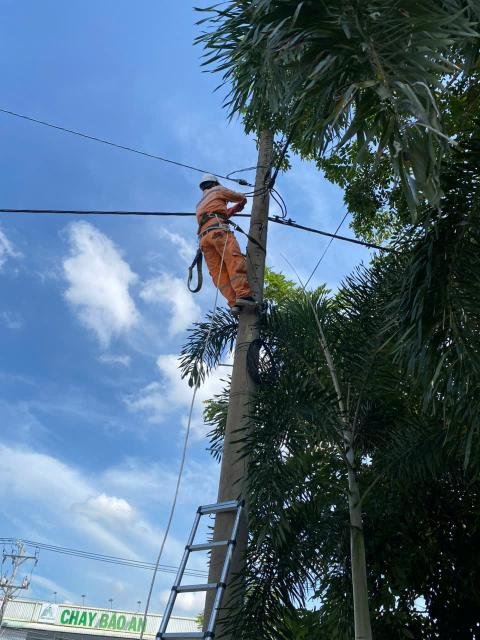harness: (187, 210, 236, 228)
helmet: (187, 168, 230, 188)
shoes: (237, 289, 266, 315), (223, 303, 247, 323)
